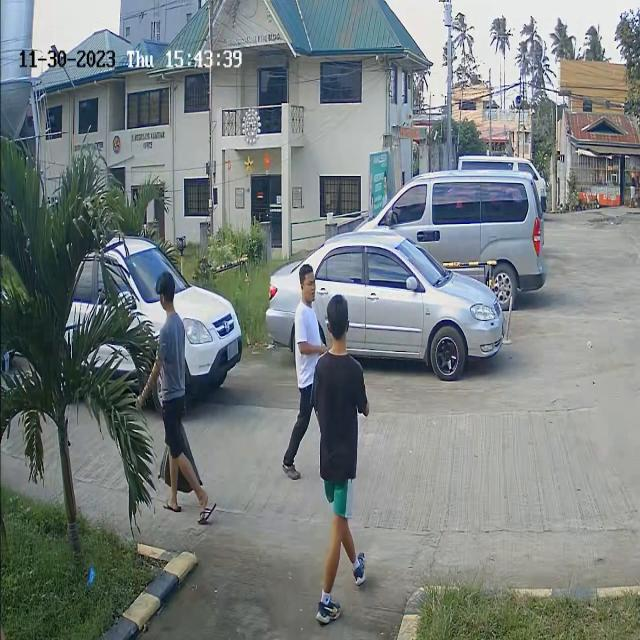person: (314, 294, 366, 527), (146, 268, 196, 466), (288, 266, 324, 398)
